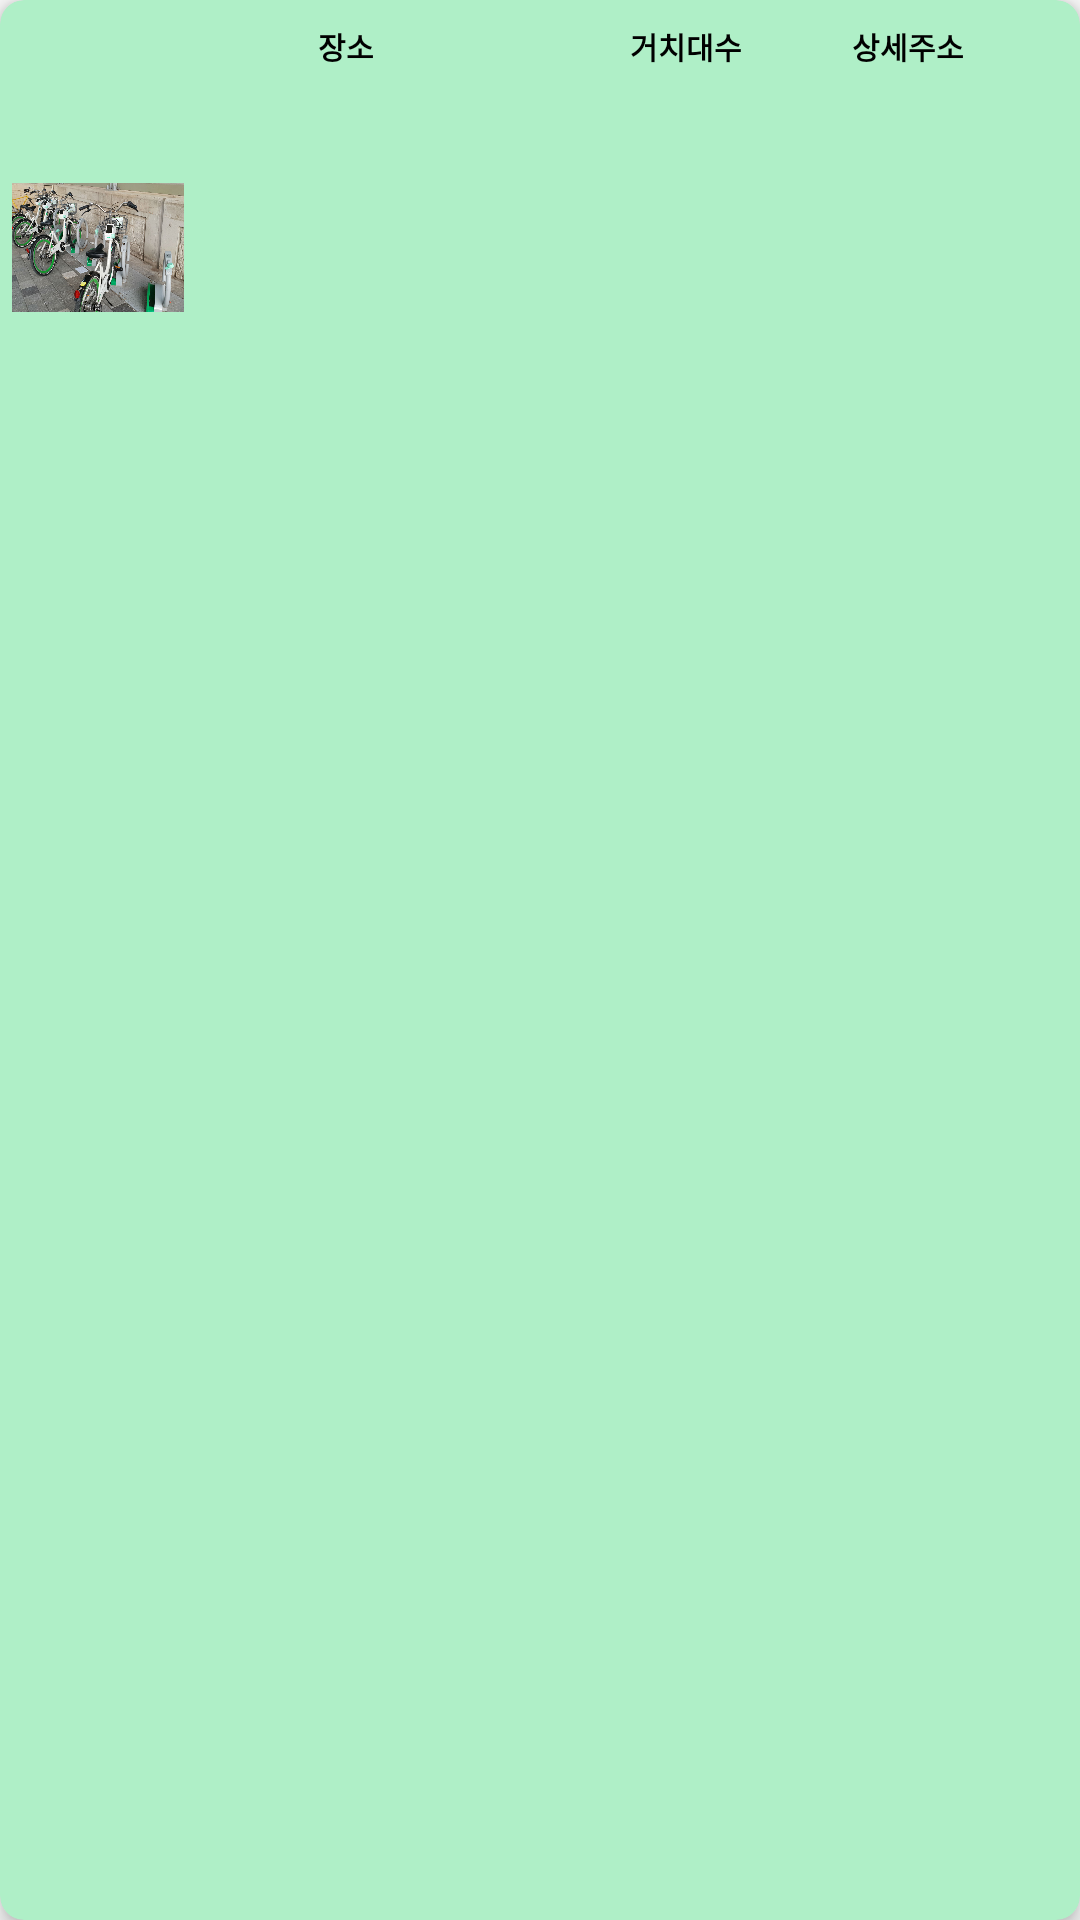

Screen size 1080px x 1920px. Icon name, then its center in pixels as point (x, y):
ddareng: point (98, 247)
